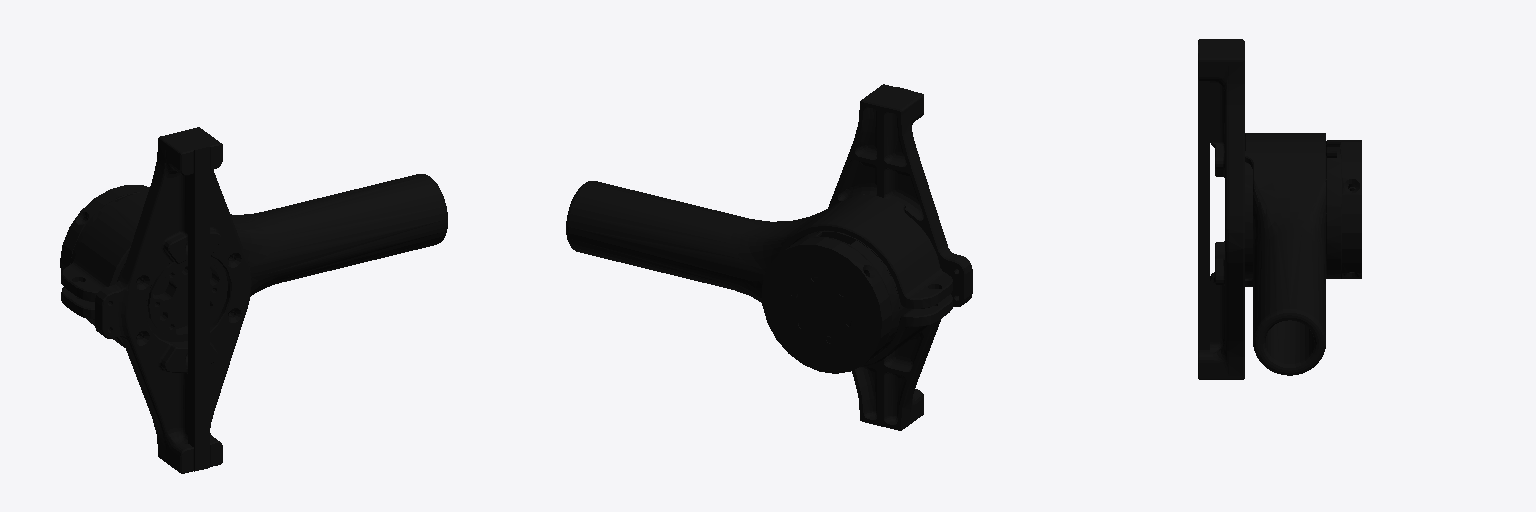
The model's file is link6_master.obj.
3 views of the same model, side by side, from view 1: azimuth 30°, elevation 25°; view 2: azimuth 150°, elevation 25°; view 3: azimuth 270°, elevation 25° (orthographic).
Visible parts, largest first — view 1: link6; view 2: link6; view 3: link6.
Boxes of the visible parts, box(x1,y1,x2,y2) form: link6: box(60, 127, 447, 473); link6: box(566, 84, 972, 430); link6: box(1198, 39, 1361, 379).
Bounding box in the file's own units: 0.1705 × 0.145 × 0.067.